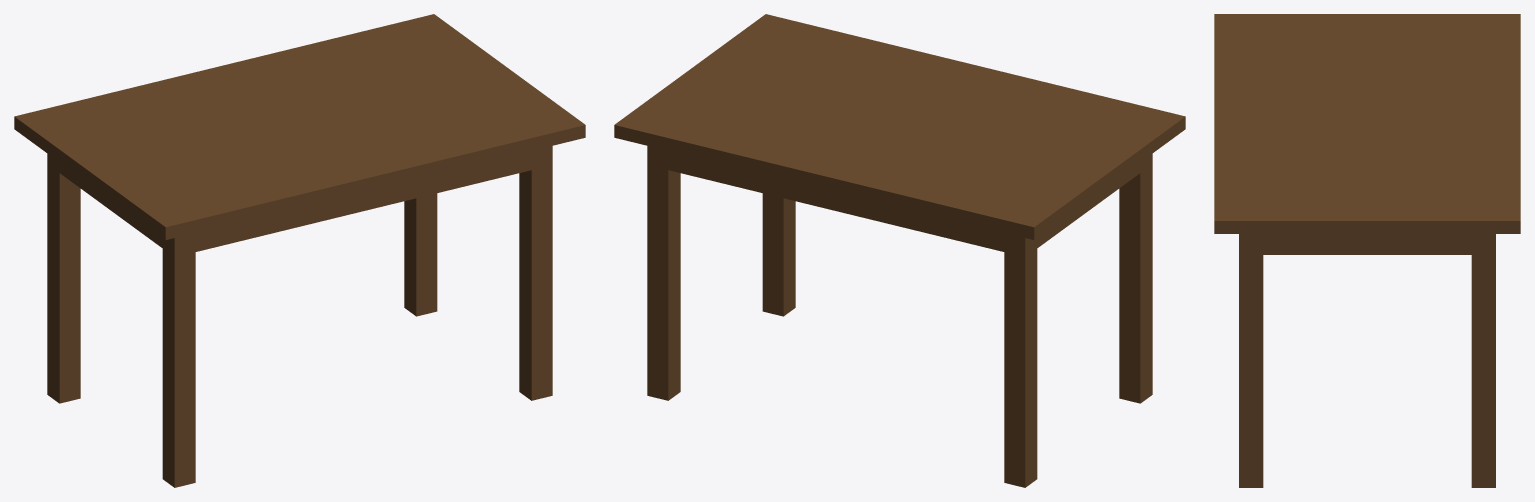
Rendered from parametric-table-1st-pub.glb.
3 views of the same model, side by side, from view 1: azimuth 30°, elevation 25°; view 2: azimuth 150°, elevation 25°; view 3: azimuth 270°, elevation 25° (orthographic).
Visible parts, largest first — view 1: parametric-table-1st-pub; view 2: parametric-table-1st-pub; view 3: parametric-table-1st-pub.
Part boxes in pixels (<box>): parametric-table-1st-pub: <box>14,14,585,487</box>; parametric-table-1st-pub: <box>614,14,1185,487</box>; parametric-table-1st-pub: <box>1214,14,1520,487</box>.
Bounding box in the file's own units: 1.2 × 0.75 × 0.75.
